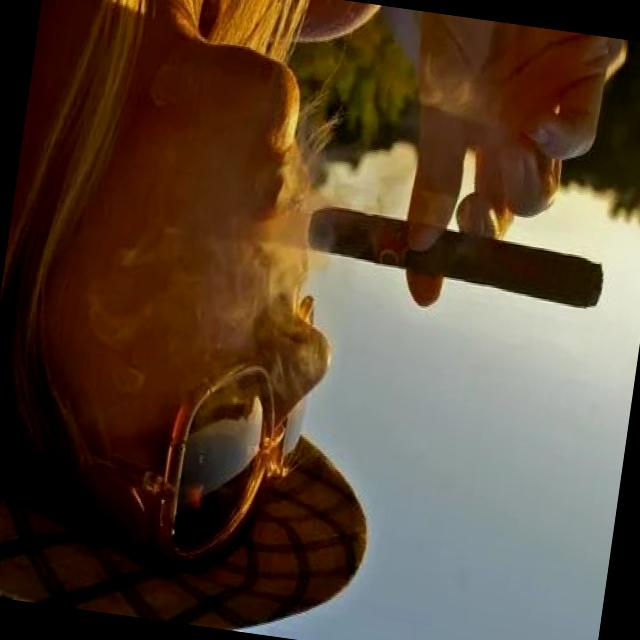smoke: (296, 197, 614, 317)
